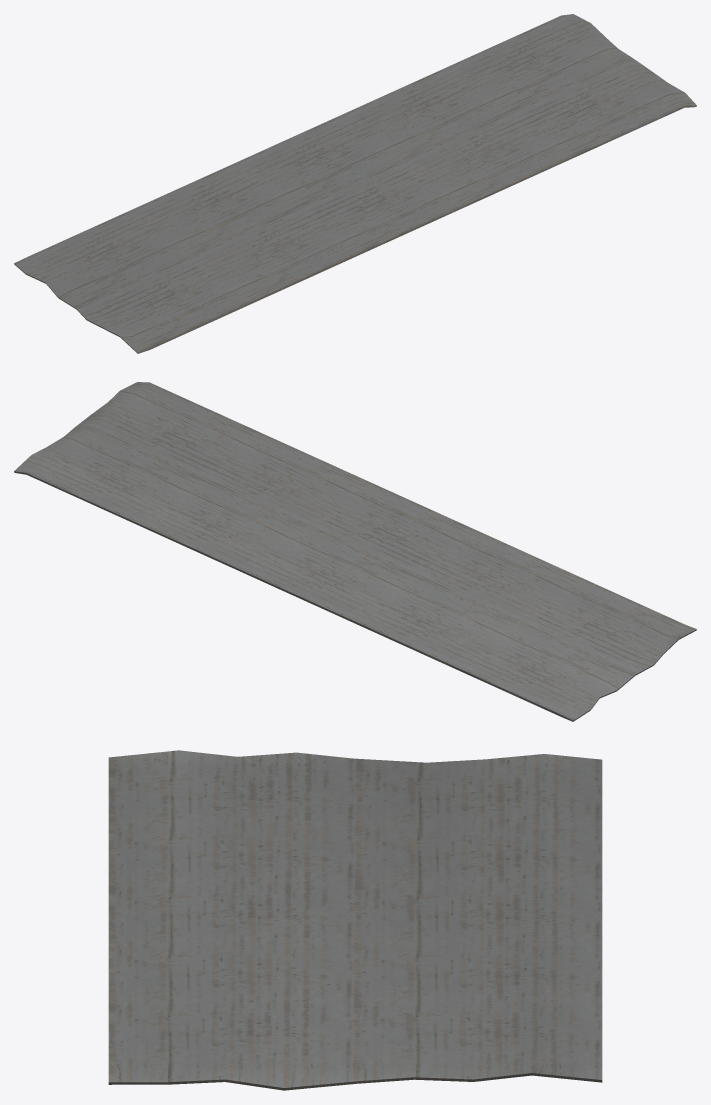
File: Kit_MetalRoofBig.fbx
3 renders of one model, top to bottom at view 1: azimuth 30°, elevation 25°; view 2: azimuth 150°, elevation 25°; view 3: azimuth 270°, elevation 25°, orthographic. The views are drawn at different scales.
Parts seen in each view (by area): view 1: Kit_MetalRoofBig; view 2: Kit_MetalRoofBig; view 3: Kit_MetalRoofBig.
Part boxes in pixels (left/top/right/bottom): Kit_MetalRoofBig: left=14, top=14, right=696, bottom=353; Kit_MetalRoofBig: left=14, top=382, right=696, bottom=721; Kit_MetalRoofBig: left=108, top=750, right=602, bottom=1090.
Bounding box in the file's own units: 835 × 168 × 315.
